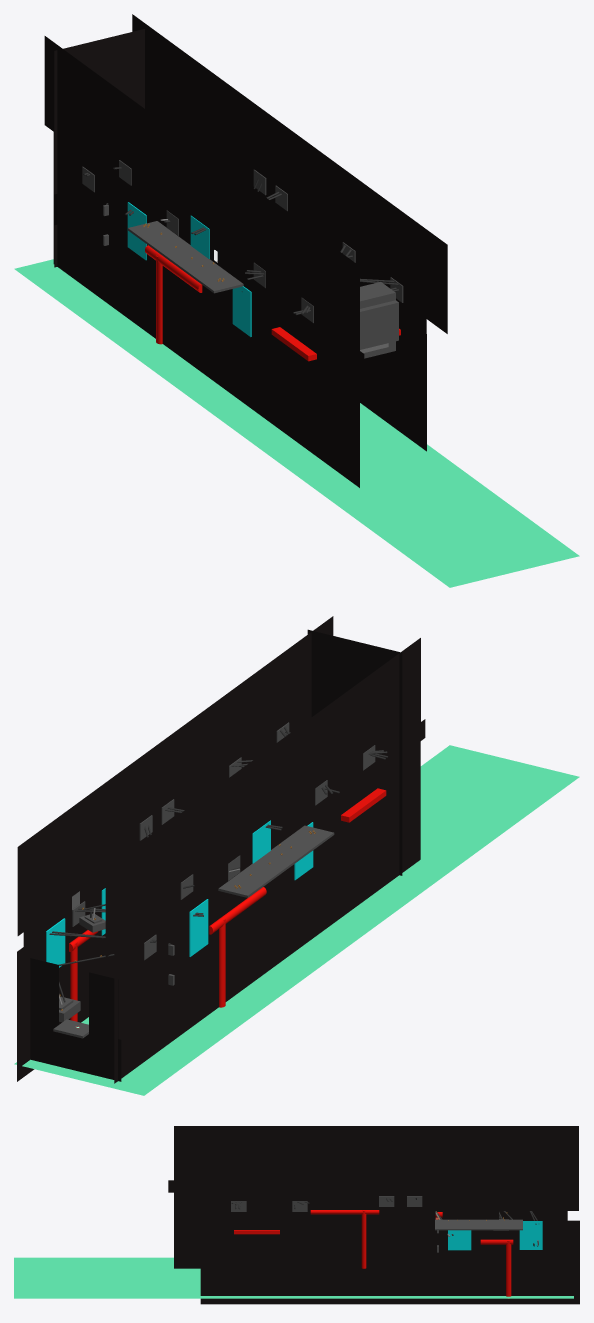
The model's file is blockmechlost hope.fbx.
3 renders of one model, top to bottom at view 1: azimuth 30°, elevation 25°; view 2: azimuth 150°, elevation 25°; view 3: azimuth 270°, elevation 25°, orthographic. The views are drawn at different scales.
Parts seen in each view (by area): view 1: w, w__10_, w__11_, w__7_, w__1_, w__2_, Plane__1_, w__4_, Cube__20_, w__9_, Cube__36_, w__5_ (+3 smaller); view 2: w__10_, w__11_, w, w__7_, w__1_, w__2_, Plane__4_, Plane, Cube__20_, w__3_, w__9_, Plane__2_ (+6 smaller); view 3: w__2_, w__11_, w__10_, w__4_, w, w__6_, w__7_, Cube__10_, Cube__1_, w__1_, Cube__11_, Cylinder__5_ (+2 smaller).
Part boxes in pixels (box(x1,y1,x2,y2)): w: box(14, 259, 579, 587); w__10_: box(44, 36, 359, 353); w__11_: box(132, 14, 447, 333); w__7_: box(164, 231, 359, 487); w__1_: box(53, 132, 170, 349); w__2_: box(214, 249, 426, 451); Plane__1_: box(54, 29, 144, 194); w__4_: box(244, 162, 426, 400); Cube__20_: box(128, 221, 243, 293); w__9_: box(217, 247, 364, 372); Cube__36_: box(360, 300, 398, 349); w__5_: box(145, 94, 247, 182); w__10_: box(105, 638, 420, 957); w__11_: box(17, 616, 333, 935); w: box(14, 745, 579, 1095); w__7_: box(225, 741, 420, 1001); w__1_: box(114, 868, 231, 1083); w__2_: box(17, 831, 278, 1081); Plane__4_: box(307, 629, 402, 875); Plane: box(30, 1017, 121, 1081); Cube__20_: box(218, 825, 334, 897); w__3_: box(23, 873, 71, 1014); w__9_: box(278, 719, 425, 843); Plane__2_: box(30, 958, 58, 1035); w__2_: box(200, 1220, 579, 1304); w__11_: box(174, 1153, 578, 1210); w__10_: box(174, 1126, 578, 1153); w__4_: box(201, 1195, 435, 1263); w: box(14, 1257, 573, 1298); w__6_: box(442, 1195, 498, 1263); w__7_: box(174, 1211, 200, 1268); Cube__10_: box(435, 1219, 522, 1230); Cube__1_: box(519, 1221, 542, 1249); w__1_: box(436, 1211, 567, 1220); Cube__11_: box(448, 1230, 471, 1250); Cylinder__5_: box(310, 1210, 379, 1214).
Size of the model in its own units: 6877 by 10822 by 34461.
Materials: 18 (5 with a texture image).
